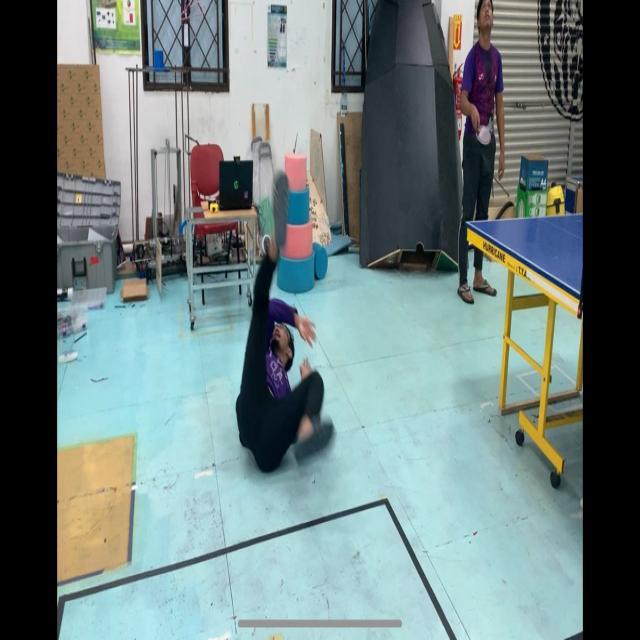fall: (229, 164, 337, 488)
